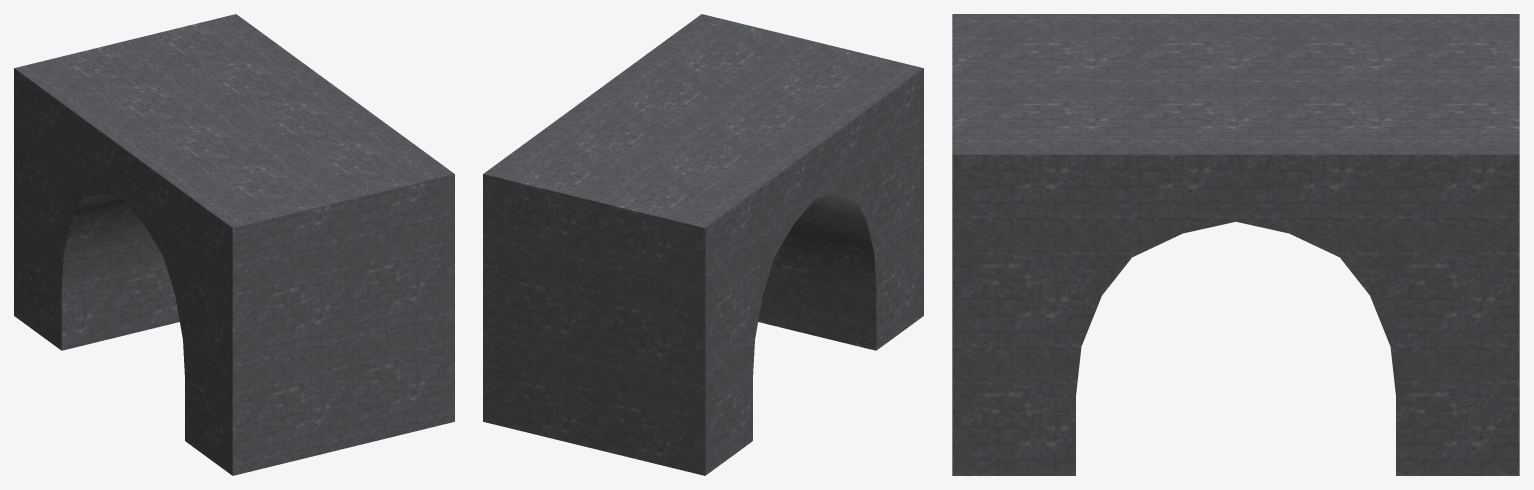
Rendered from ArchWall_8m_5_4.fbx.
3 views of the same model, side by side, from view 1: azimuth 30°, elevation 25°; view 2: azimuth 150°, elevation 25°; view 3: azimuth 270°, elevation 25° (orthographic). The views are drawn at different scales.
Parts seen in each view (by area): view 1: ArchWall_8m_5_4.75m; view 2: ArchWall_8m_5_4.75m; view 3: ArchWall_8m_5_4.75m.
Part boxes in pixels (left/top/right/bottom): ArchWall_8m_5_4.75m: left=14, top=14, right=454, bottom=475; ArchWall_8m_5_4.75m: left=483, top=14, right=923, bottom=475; ArchWall_8m_5_4.75m: left=952, top=14, right=1519, bottom=475.
Size of the model in its own units: 469 by 500 by 800.
